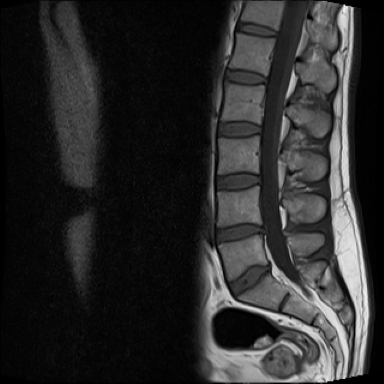Lumbar Disc Bulge (LDB): (222, 251, 289, 305), (208, 203, 277, 248)
Normal IVD: (211, 168, 263, 196), (233, 14, 280, 42), (221, 62, 271, 88), (213, 116, 265, 140)
Spinal Stenosis (SS): (259, 255, 280, 286), (253, 215, 273, 242)
